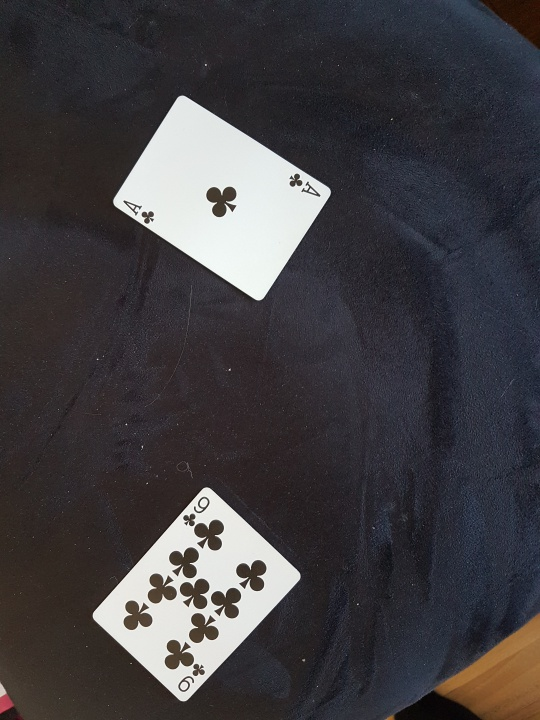9: (83, 482, 306, 708)
ace: (95, 82, 337, 311)
